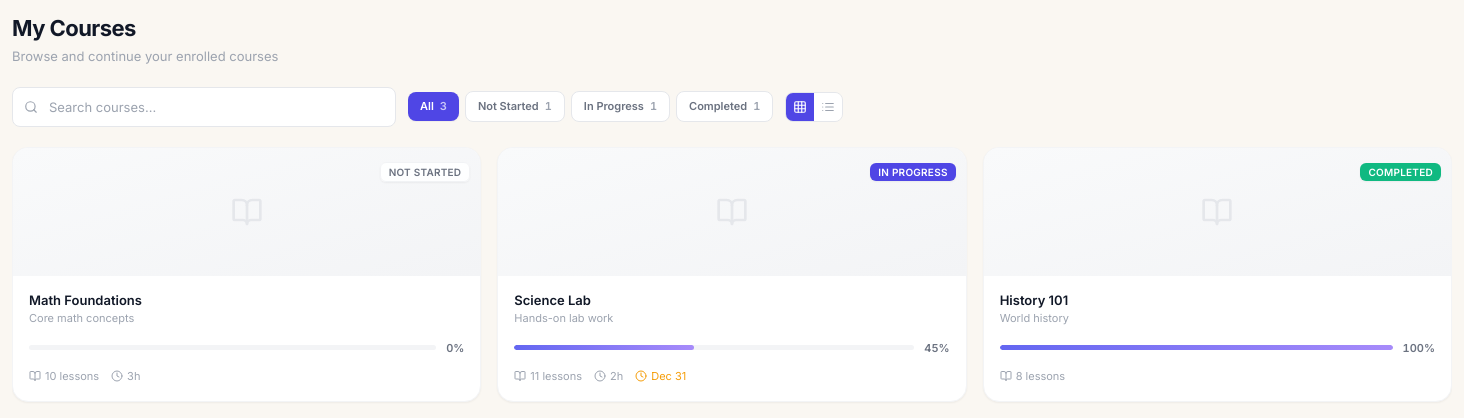
CourseListPage › status filter — In Progress › shows only Science Lab and hides other courses
The image size is (1464, 418).
expect the heading "Math Foundations" is shown: met, box [29,292,142,308]
Step 1. Click the button "In Progress1" → (620, 107), box [571,91,670,122]
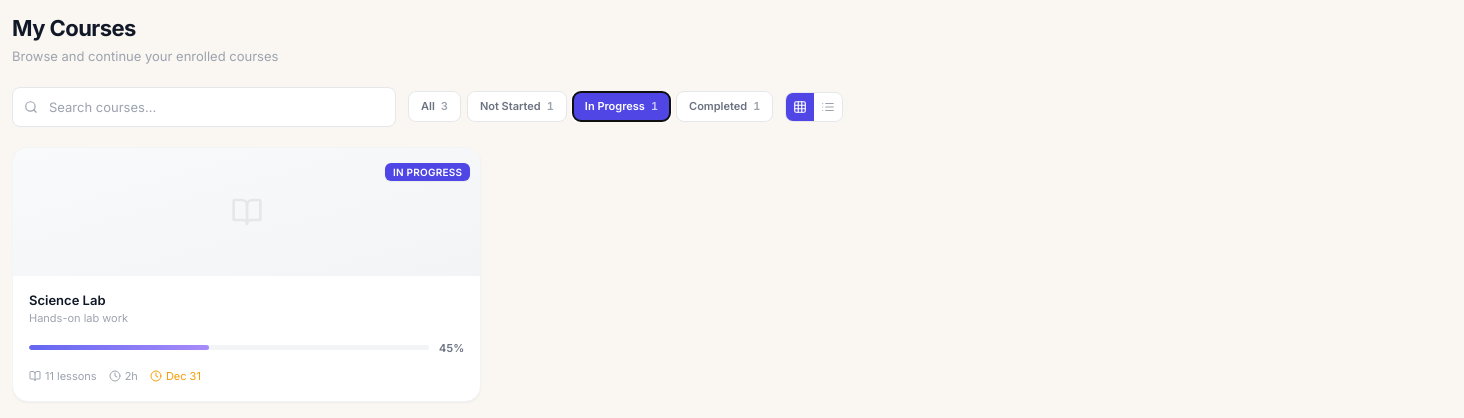
expect the heading "Science Lab" is shown: met, box [29,292,106,308]
expect the button "Math Foundations" is gone: met
expect the button "History 101" is gone: met
